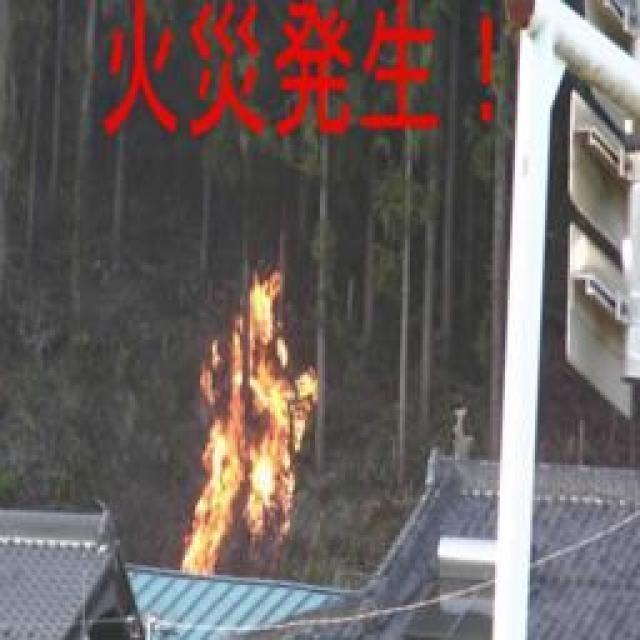Fire: (189, 270, 328, 579)
